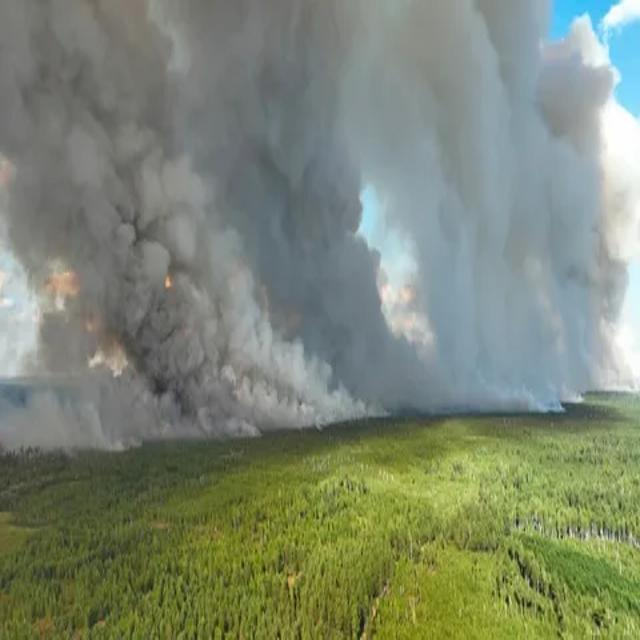Smoke: (0, 0, 638, 424)
